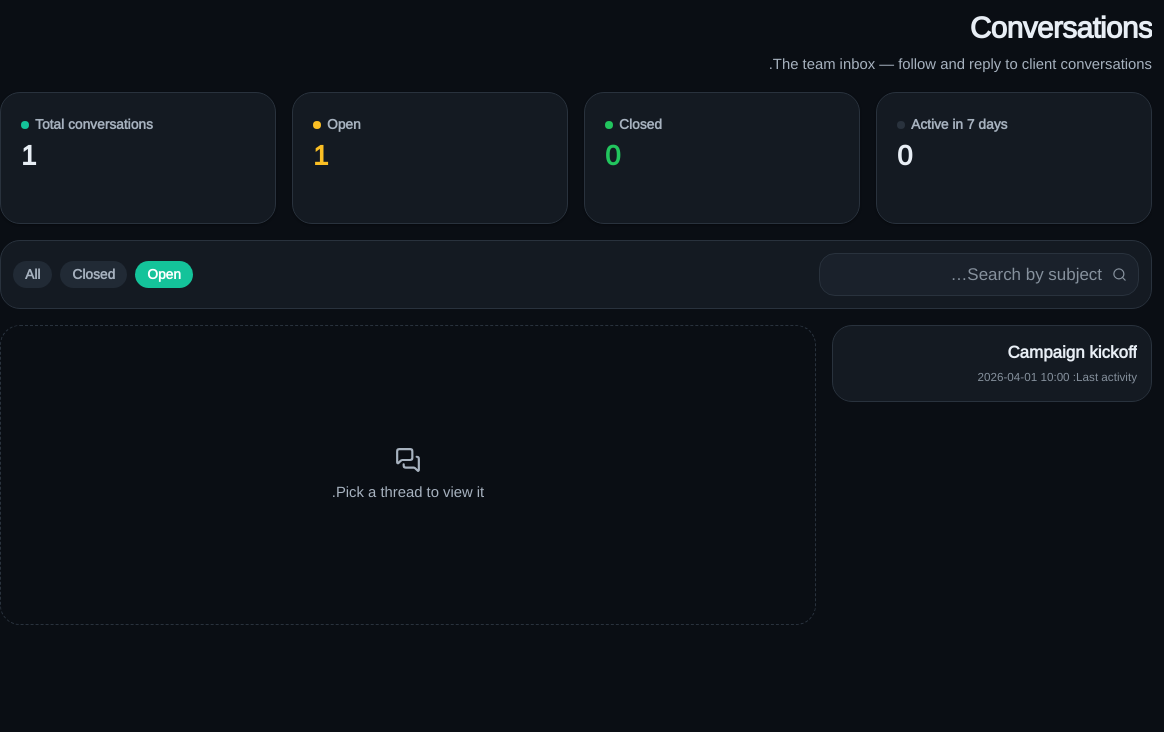
ThreadsPage › hides the reply box without messaging.manage
Click the text "Campaign kickoff" at {"x": 1072, "y": 353}, box [1007,340,1137,366]
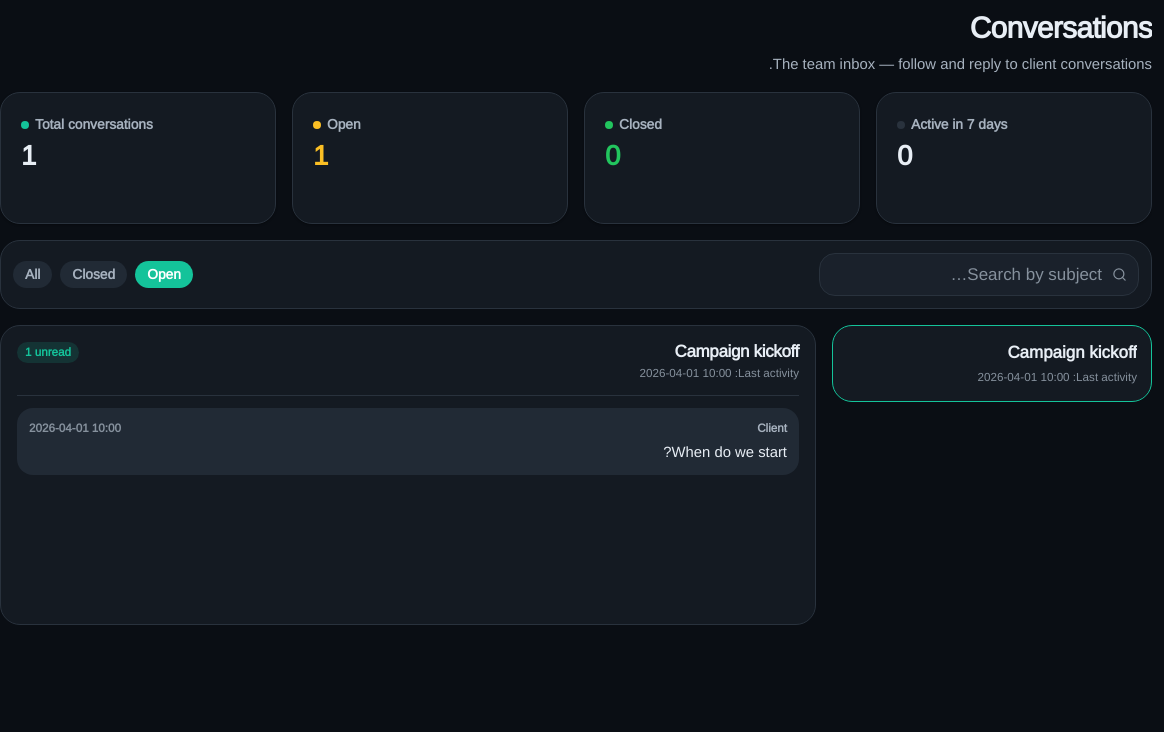
Expected: the text "When do we start?" is shown, [663,443,787,460]
